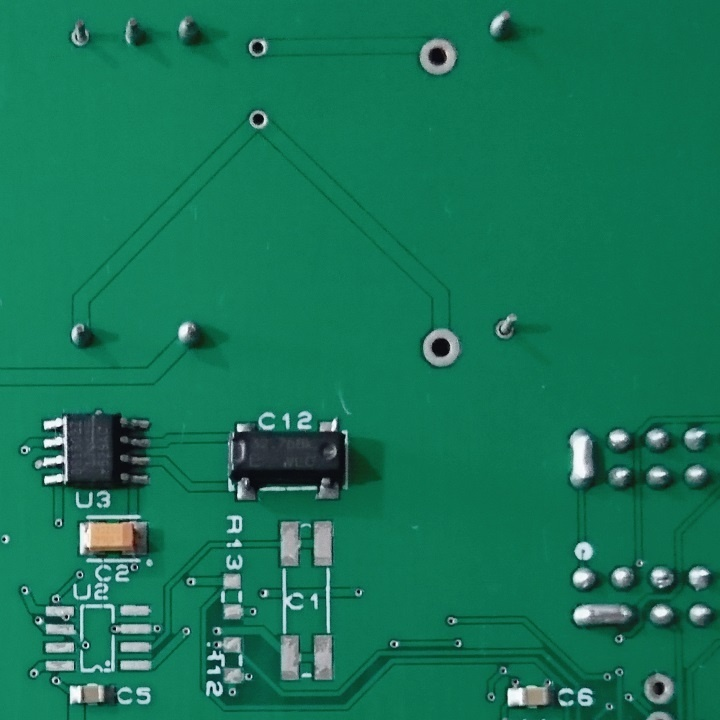F: (416, 35, 461, 80), (419, 326, 465, 369), (643, 671, 675, 706), (493, 309, 520, 343), (65, 20, 92, 51), (243, 107, 270, 133), (247, 34, 271, 60)
P: (564, 424, 598, 497), (568, 602, 636, 630)
